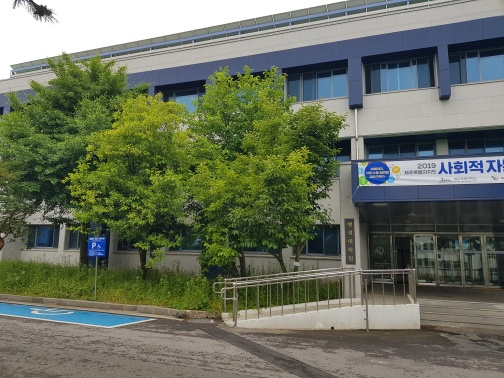College of Social Sciences: (272, 12, 504, 329)
